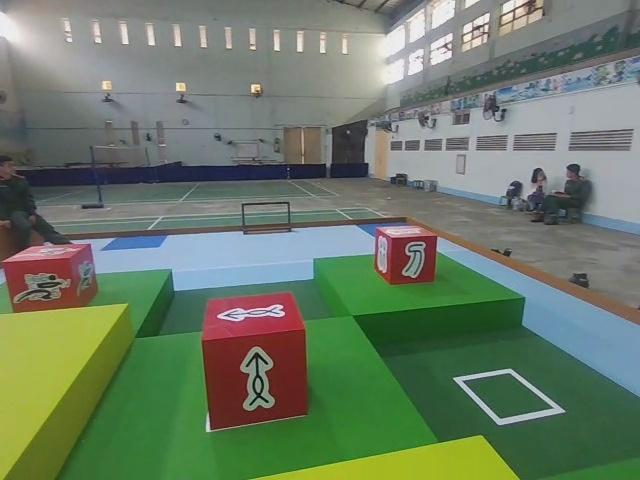R1: (0, 241, 100, 317)
R2 Fake: (373, 222, 440, 289)
R2 Real: (199, 287, 314, 433)
